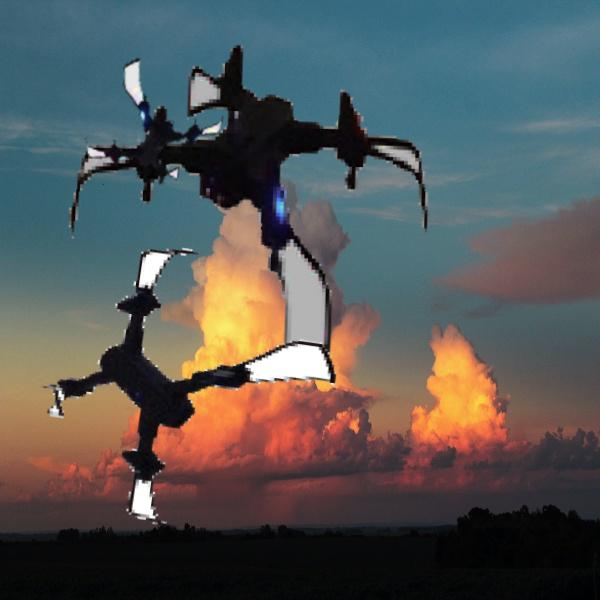drone: (58, 27, 430, 399), (37, 235, 344, 542), (84, 45, 232, 193)
